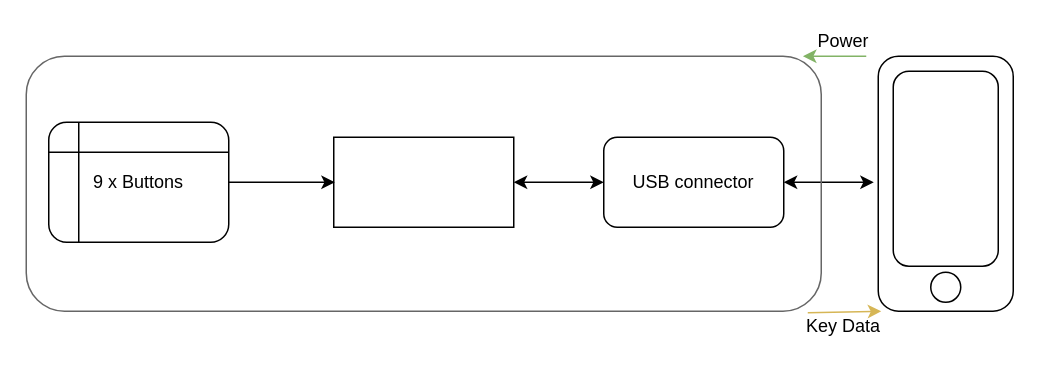
The diagram is 1040 pixels wide and 366 high, and some of its shapes have lost their labels. The centre of each missing label's shape, as x and y in pixels:
"HID - USB MIcrocontroller" goes at point (423, 181).
"Smartphone" goes at point (945, 168).
